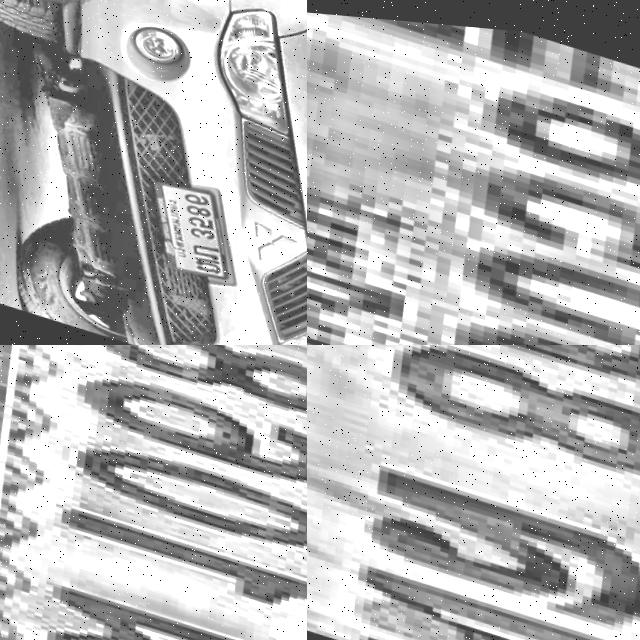license-plate: (307, 0, 640, 345), (307, 345, 640, 640), (0, 345, 307, 640), (119, 166, 240, 287)
